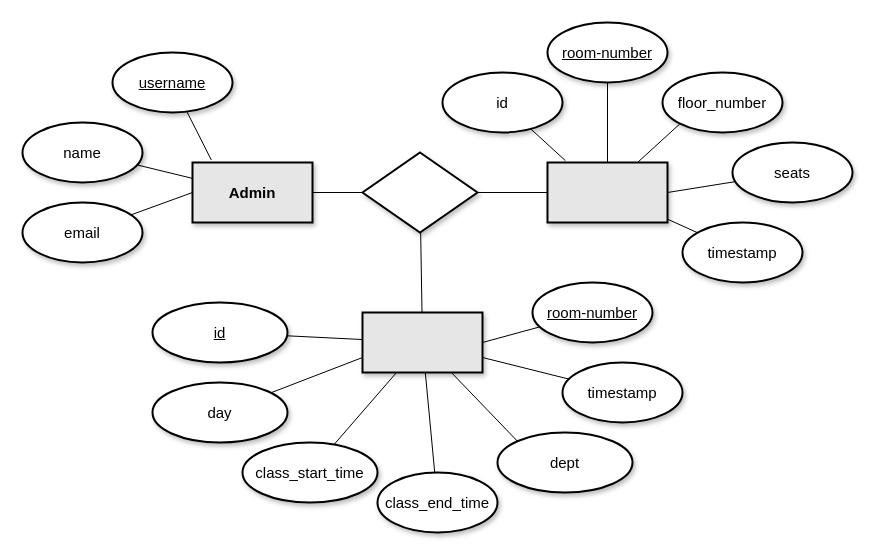
This 876x557 diagram has some shape labels left out. The centre of each missing label's shape, as x and y in pixels:
"Classroom" belongs at point 608,193.
"Manage" belongs at point 420,193.
"Routines" belongs at point 423,343.
